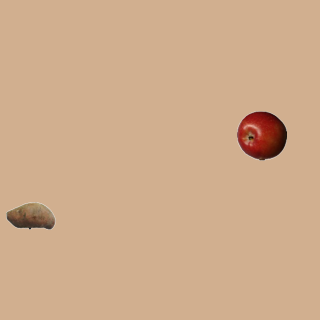Apple Braeburn: (236, 110, 286, 160)
Potato Sweet: (5, 190, 55, 240)
